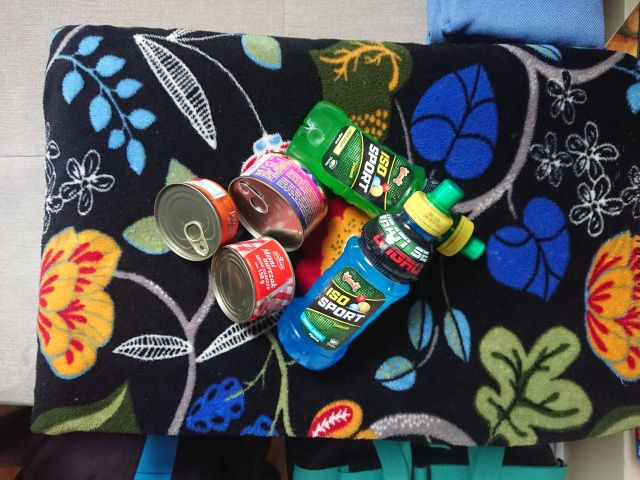Gavrilovic Pork Liver Pate 100g: (151, 176, 241, 264)
Giana Tuna Salad Mexico 185g: (225, 151, 331, 255)
Podravka Luncheon Meat 150g: (208, 234, 299, 327)
Vindi Iso Sport Forest Strawberries 500mL: (274, 175, 467, 373)
Vindi Iso Sport Lemon-Grapefruit 500mL: (281, 98, 488, 263)
